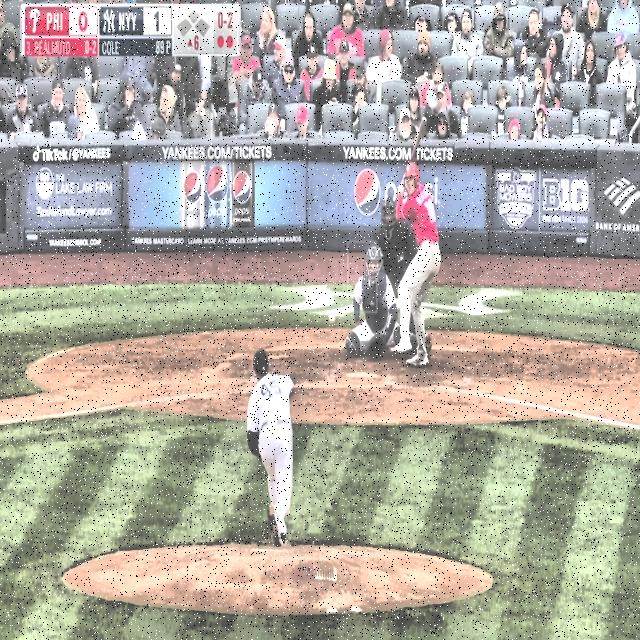baseball: (329, 312, 336, 324)
